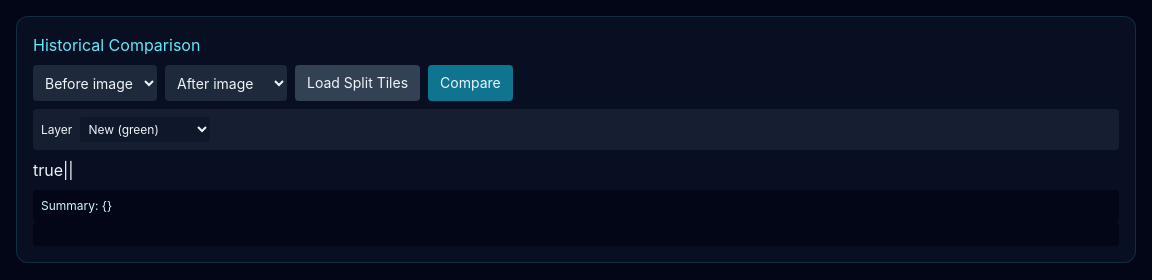
Test: HistoricalComparisonPage › loads split tile URLs and passes them to IntelMap
The image size is (1152, 280).
Select "11 - before.tif" in the 1st dropdown at (95, 83), box [33,65,157,101]
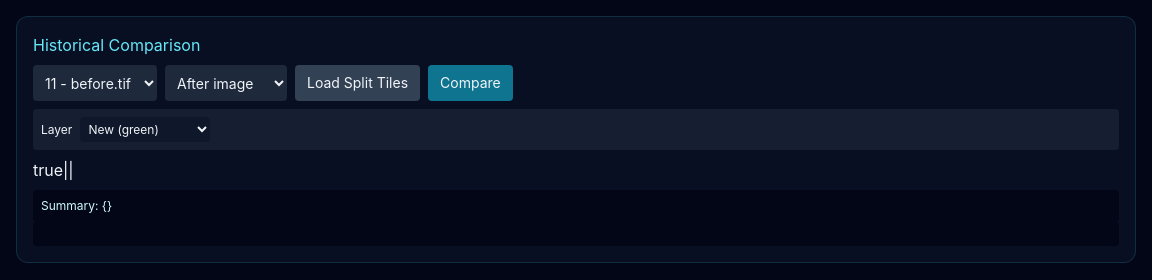
Select "12 - after.tif" in the 2nd dropdown at (226, 83), box [165,65,287,101]
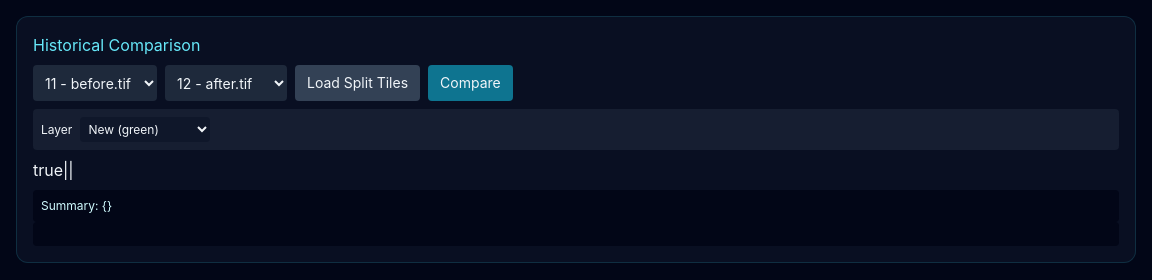
Click the button "Load Split Tiles" at (358, 83), box [295,65,420,101]
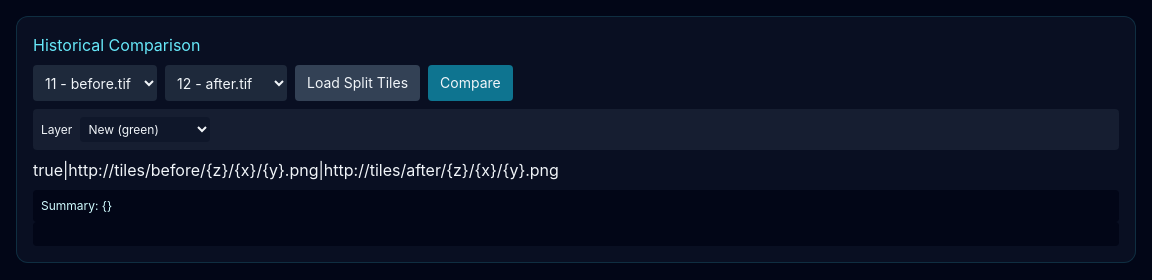
expect the text with test id "intel-map-props" shows "true": met, box [33,160,559,180]
expect the text with test id "intel-map-props" shows "http://tiles/before/{z}/{x}/{y}.png": met, box [33,160,559,180]
expect the text with test id "intel-map-props" shows "http://tiles/after/{z}/{x}/{y}.png": met, box [33,160,559,180]
